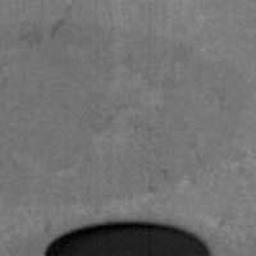Punching: (42, 219, 214, 256)
